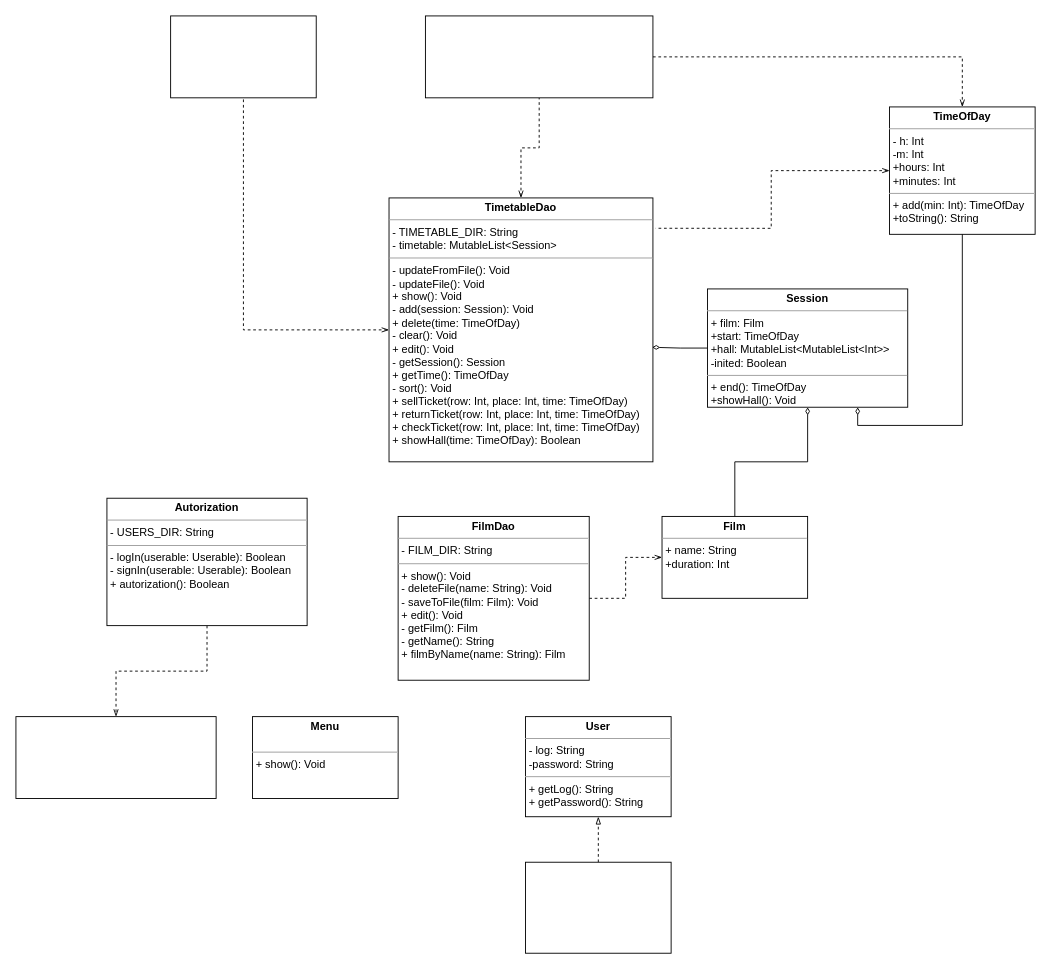
Some shapes in this 1051 by 969 pixel diagram are drawn without their labels. The shapes that lost their labels are listed below. From the top down, each one's box as (x1, y1, x2, y2) in pixels, then its label:
(170, 15, 316, 98): ControllerDao + controllTicket: Void
(425, 15, 653, 98): TicketsDao + operateTicket(sellReturn: Boolean): Void
(15, 716, 216, 799): Encoder + encode(password: String): String + decode(code: String): String
(525, 861, 671, 953): << Interface >> Userable + getLog(): String + getPassword(): String
